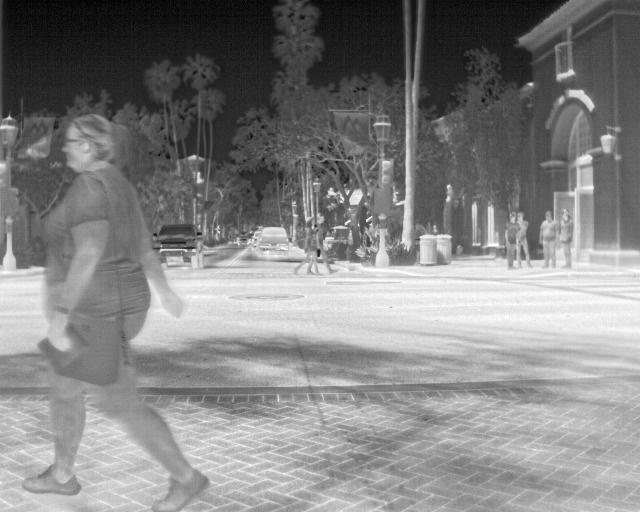bicycle: (153, 224, 205, 270), (258, 227, 290, 255)
empty: (21, 109, 209, 508), (292, 222, 319, 275), (309, 227, 336, 271), (555, 206, 574, 268), (514, 212, 535, 268), (539, 209, 558, 270), (504, 211, 521, 269)
